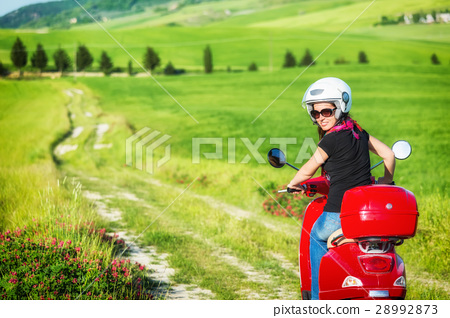helmet: (299, 80, 355, 114)
